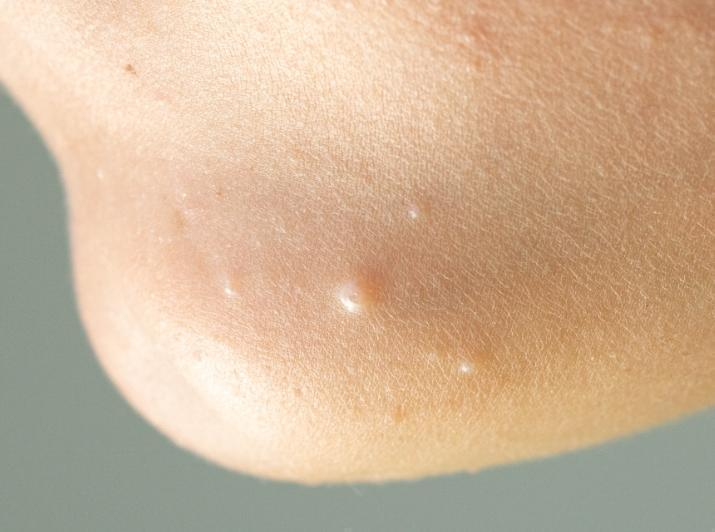cystic: (308, 264, 410, 339)
whitehead: (190, 274, 261, 316), (397, 191, 447, 242), (445, 338, 488, 397)
